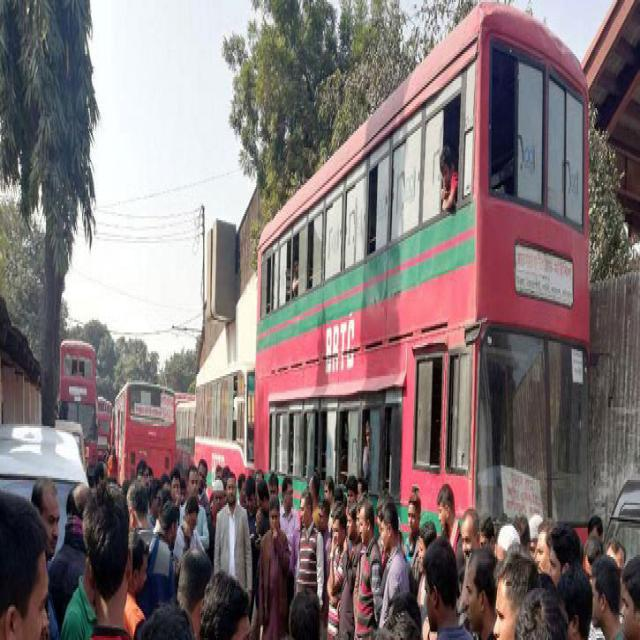Double decker: (255, 13, 599, 557), (57, 335, 101, 481)
